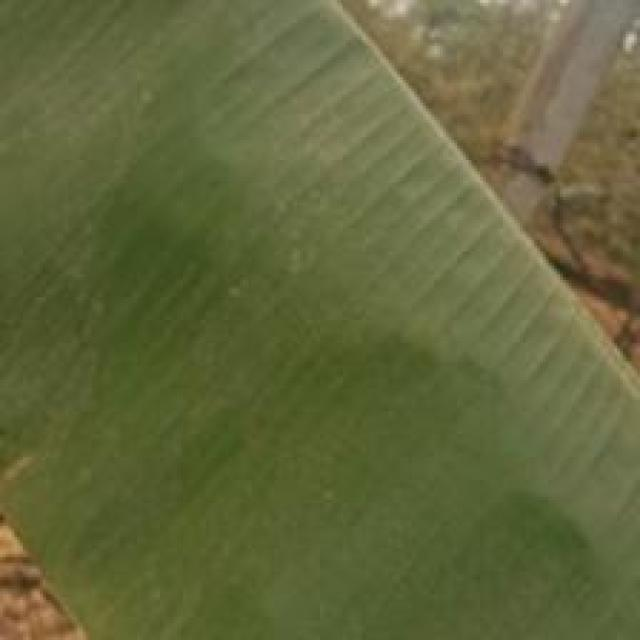Black_leaf_spot: (24, 61, 456, 558)
